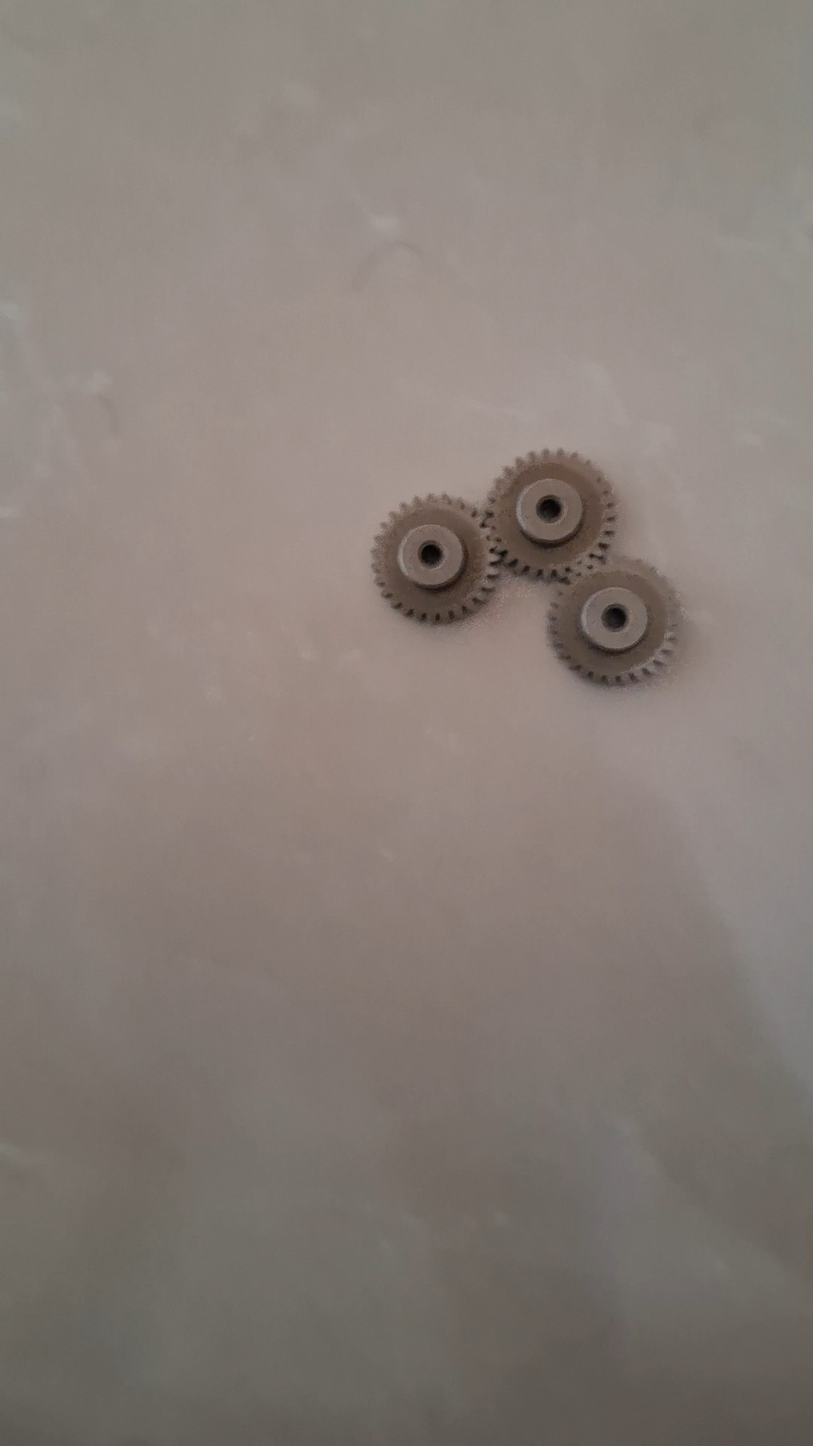spur gear: (486, 449, 616, 581), (548, 560, 680, 685), (372, 494, 499, 623)
